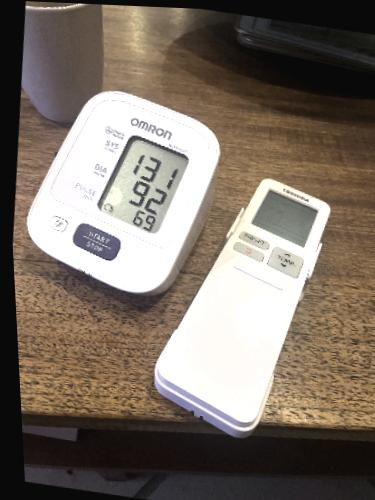bpm: (93, 128, 194, 238)
